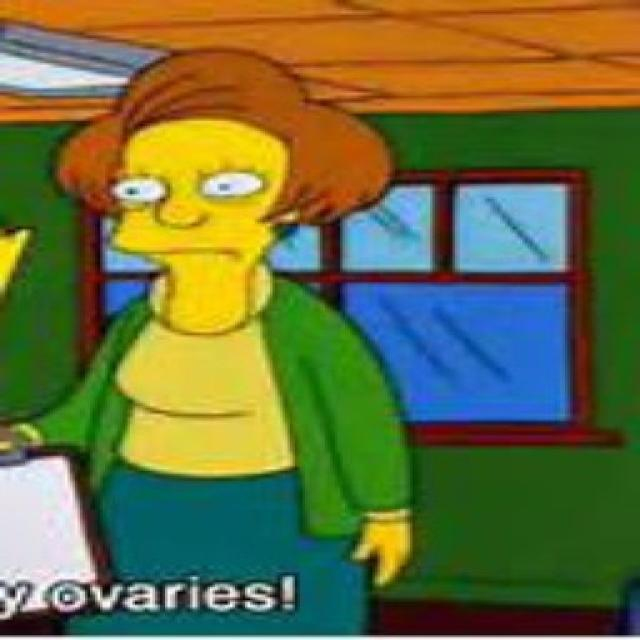Edna Krappel: (45, 46, 400, 322)
